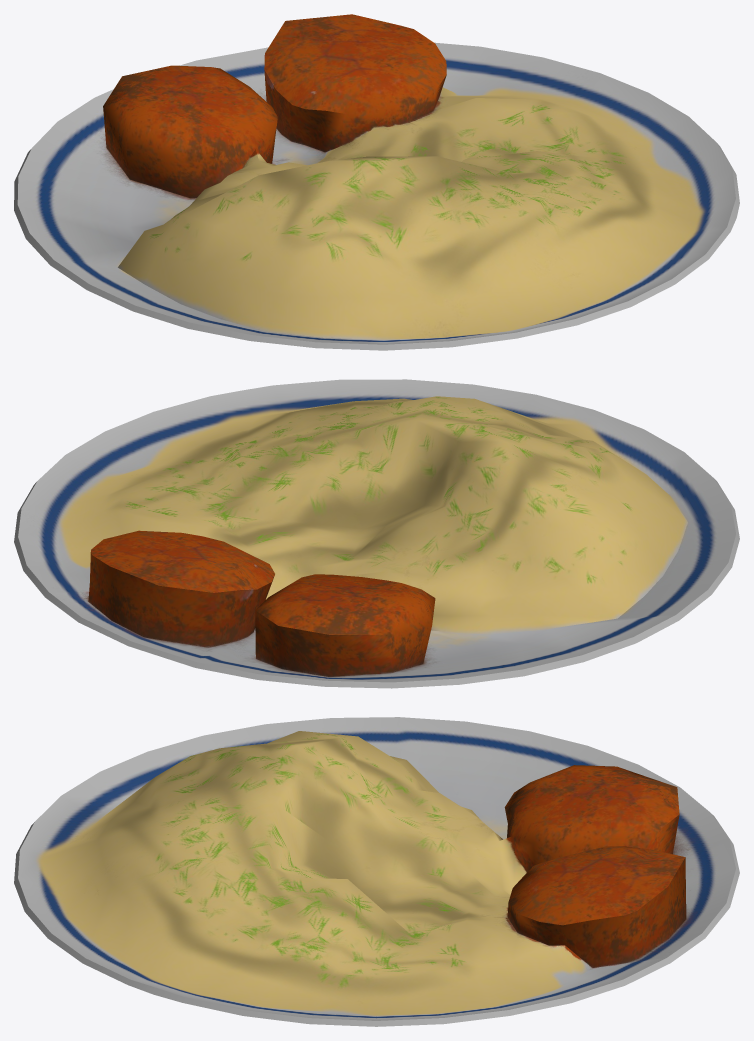
3 views of the same model, one above another, from view 1: azimuth 30°, elevation 25°; view 2: azimuth 150°, elevation 25°; view 3: azimuth 270°, elevation 25° (orthographic).
Parts seen in each view (by area): view 1: Food_uv_polySurface1; view 2: Food_uv_polySurface1; view 3: Food_uv_polySurface1.
Boxes of the visible parts, x1,y1,x2,y2 form: Food_uv_polySurface1: (14, 14, 739, 350); Food_uv_polySurface1: (14, 379, 739, 688); Food_uv_polySurface1: (14, 717, 739, 1026).
Size of the model in its own units: 2 by 0.3799 by 2.
1 material, 1 textured.
